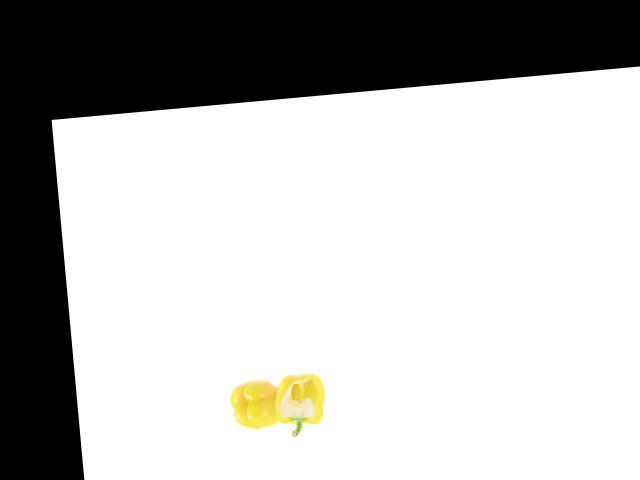bell_pepper: (262, 360, 331, 440)
